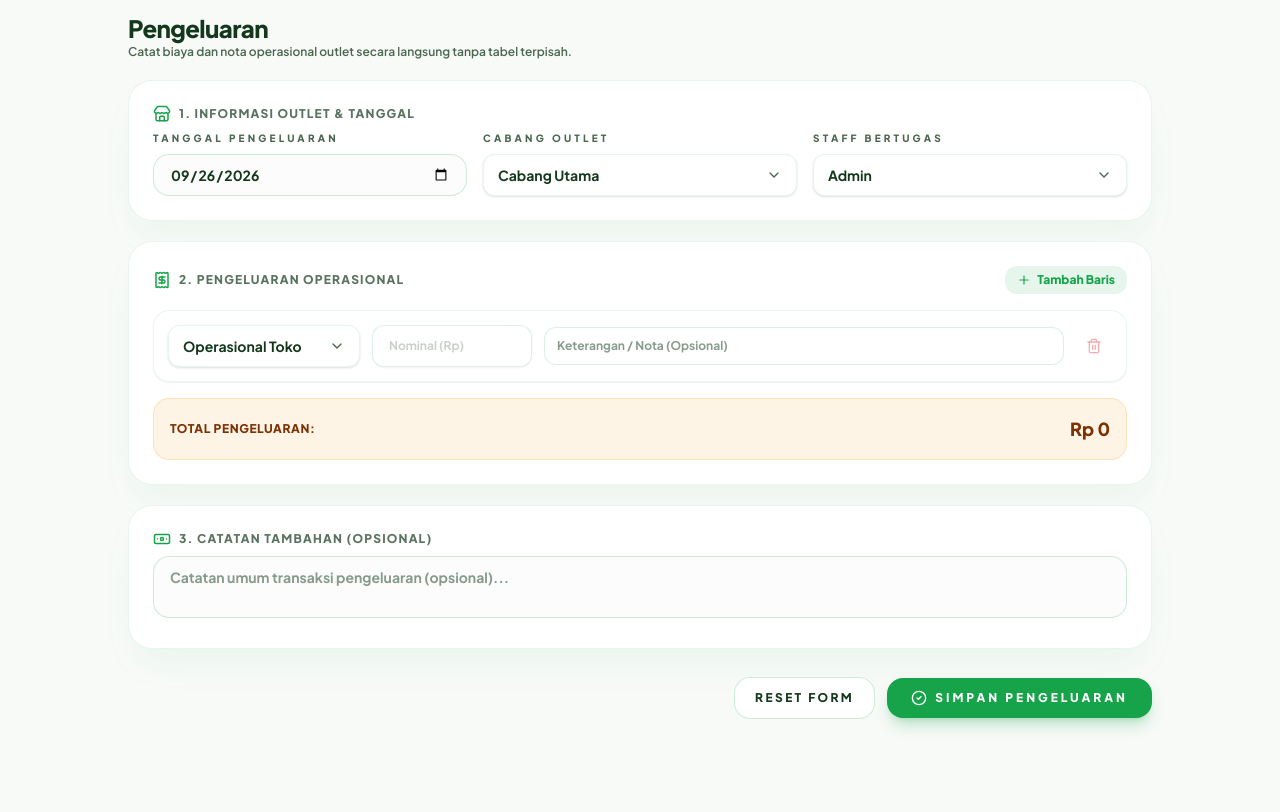
Test: KasKeluarPanel › allows adding and removing dynamic expense rows and dynamically calculates total
The image size is (1280, 812).
Check: the text "Rp 0" is shown, box [1070, 415, 1110, 443]
# Fill first row with 25000
In the field with placeholder "Nominal (Rp)": (452, 346) [372, 325, 532, 367], type "25000"
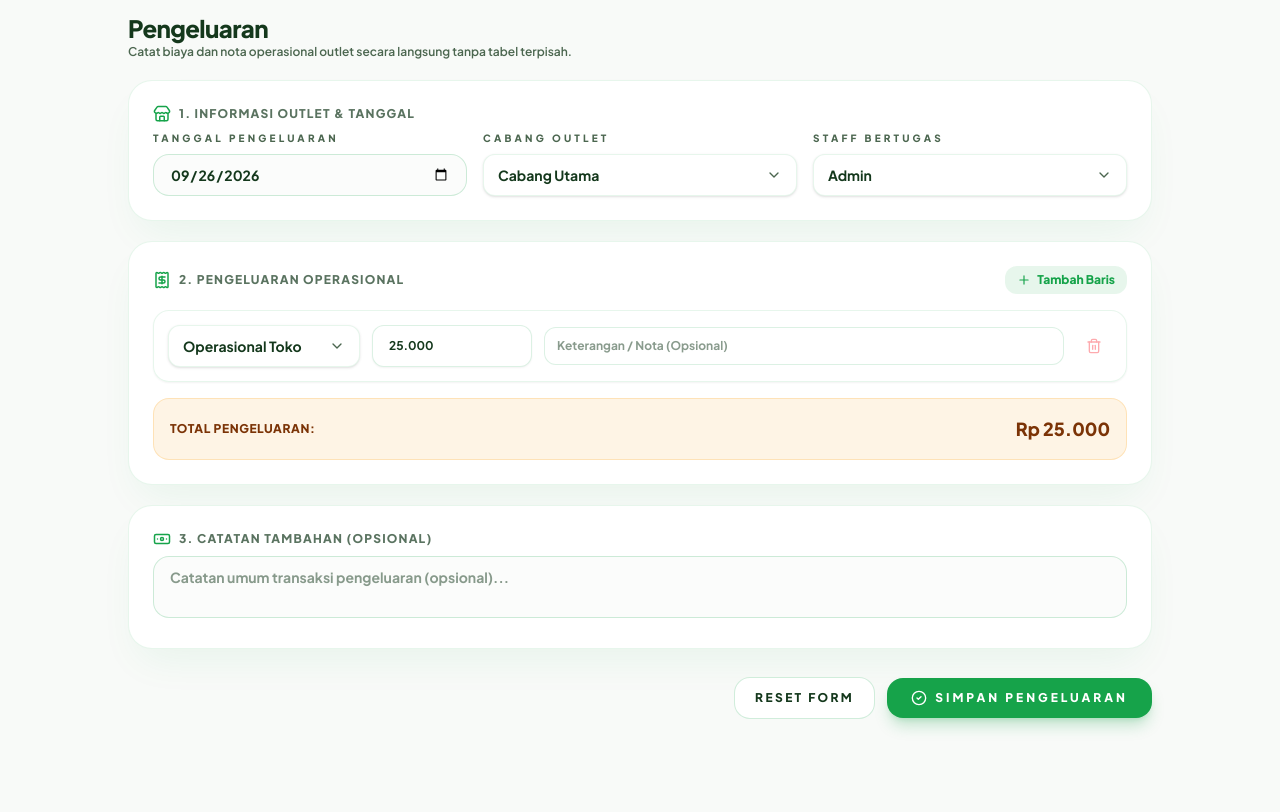
Check: the text "Rp 25.000" is shown, box [1016, 415, 1110, 443]
# Add a second row
Click the button "Tambah Baris": (1066, 280) [1005, 266, 1127, 294]
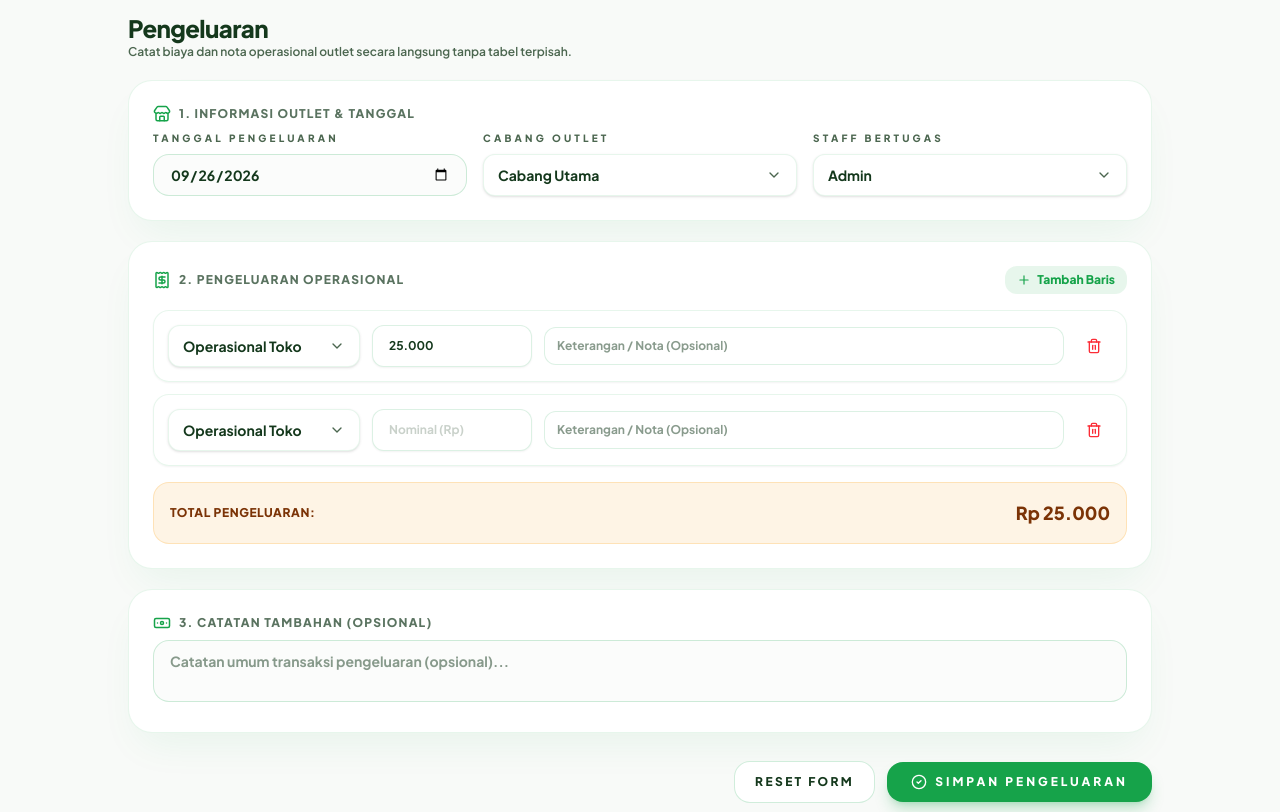
Check: the number of fields with placeholder "Nominal (Rp)" is 2
# Fill second row with 50000
In the field with placeholder "Nominal (Rp)": (452, 430) [372, 409, 532, 451], type "50000"
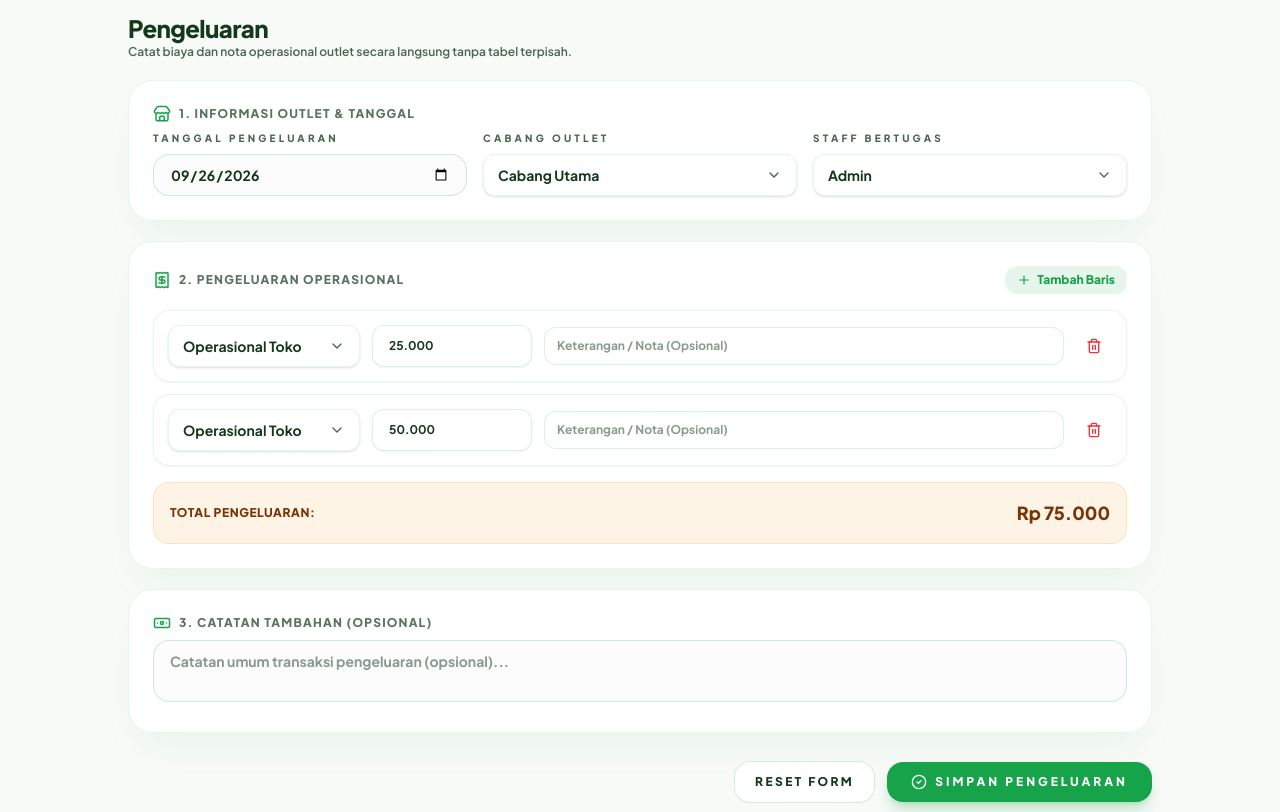
Check: the number of buttons titled "Hapus baris pengeluaran" is 2
Check: the text "Rp 75.000" is shown, box [1017, 499, 1110, 527]
Click the button titled "Hapus baris pengeluaran": (1094, 346) [1076, 328, 1112, 364]
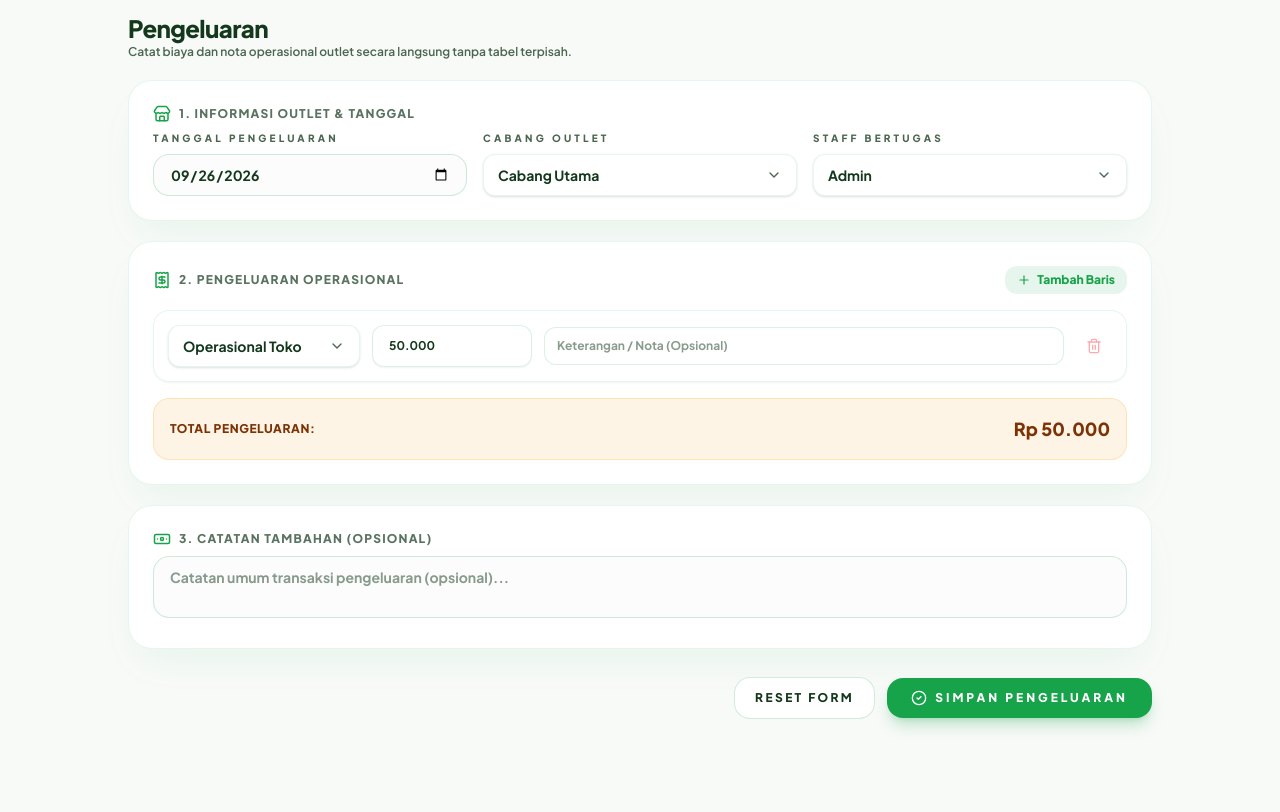
Check: the number of fields with placeholder "Nominal (Rp)" is 1, box [372, 325, 532, 367]
Check: the text "Rp 50.000" is shown, box [1014, 415, 1110, 443]
